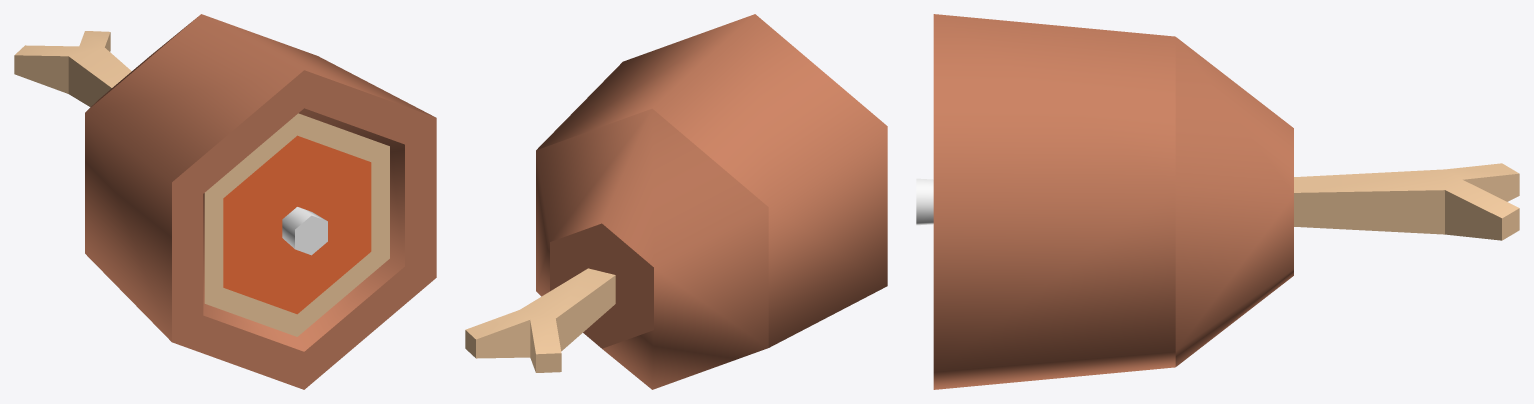
Rendered from wholeHam.obj.
3 renders of one model, left to right at view 1: azimuth 30°, elevation 25°; view 2: azimuth 150°, elevation 25°; view 3: azimuth 270°, elevation 25°, orthographic. The views are drawn at different scales.
Visible parts, largest first — view 1: wholeHam; view 2: wholeHam; view 3: wholeHam.
Part boxes in pixels (x1=…): wholeHam: x1=14, y1=14, x2=436, y2=389; wholeHam: x1=465, y1=14, x2=887, y2=389; wholeHam: x1=916, y1=14, x2=1519, y2=389.
Size of the model in its own units: 0.3809 by 0.4399 by 0.6397.
